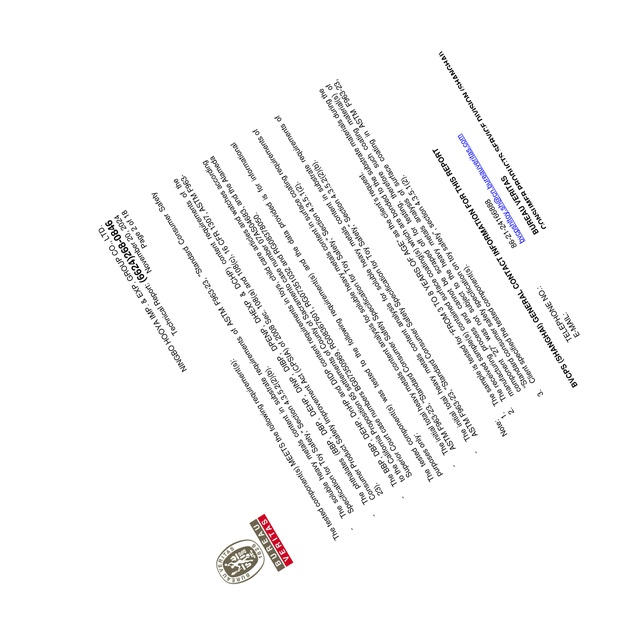bureau_veritas: (211, 510, 295, 588)
